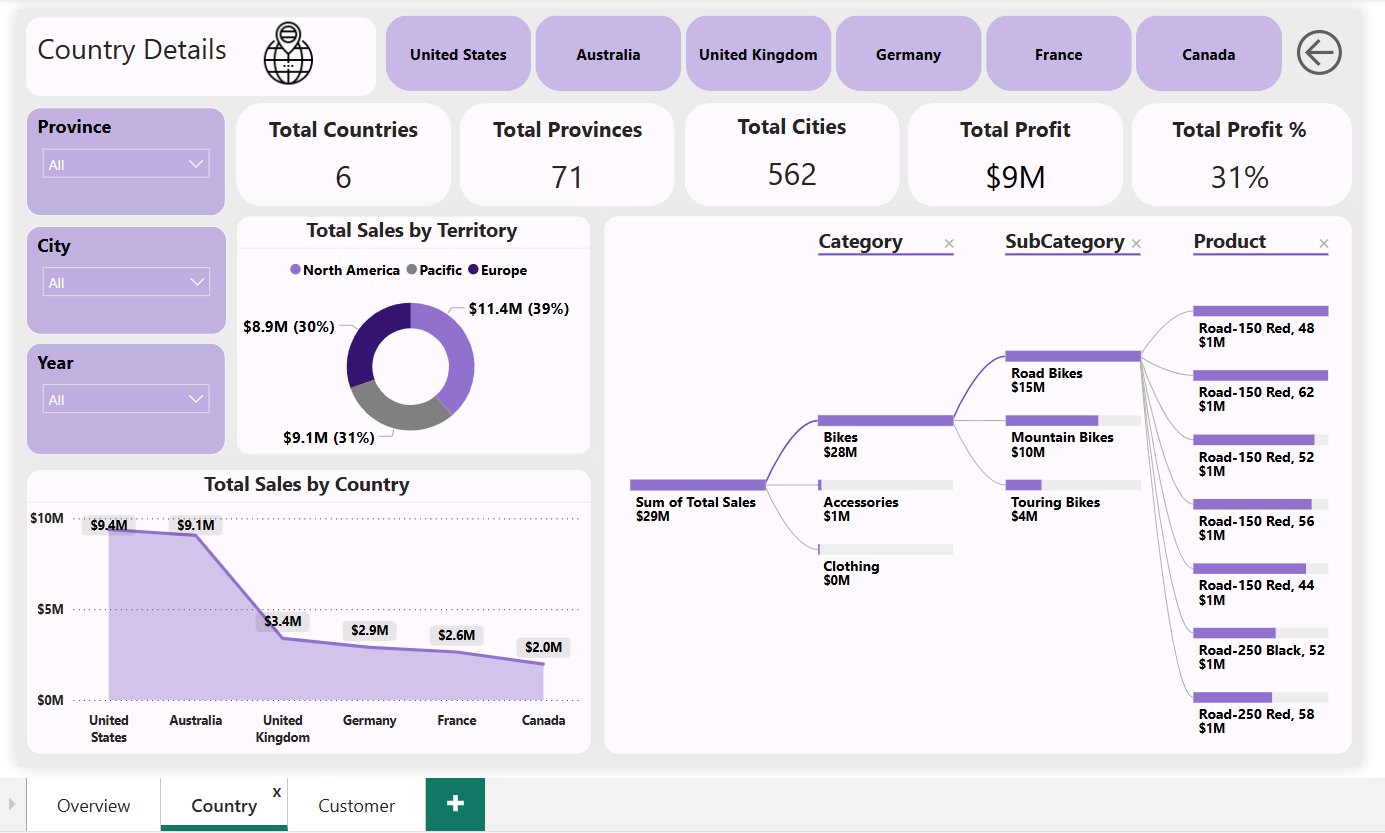

The page's visual inventory and layout, read from the dashboard file:
{"tool":"powerbi","page":{"name":"Country","canvas":[1280,720],"ordinal":1},"visuals":[{"type":"advancedSlicerVisual","fields":{"Values":["Geography.EnglishCountryRegionName"]},"box":[346.2,0,867.1,82.7],"z":0},{"type":"shape","box":[208.3,88.3,205,98.3],"z":1000},{"type":"decompositionTreeVisual","fields":{"ExplainBy":["New Product.Category.EnglishProductCategoryName","New Product.Category.Subcategory.EnglishProductSubcategoryName","New Product.EnglishProductName"],"Analyze":["Sum(Fact Sales.Total Sales)"]},"box":[558.3,195,713,513.3],"z":2000},{"type":"shape","box":[421.7,88.3,205,98.3],"z":3000},{"type":"shape","box":[635,88.3,205,98.3],"z":4000},{"type":"shape","box":[1061.7,88.3,210,98.3],"z":5000},{"type":"shape","box":[848.3,88.3,205,98.3],"z":6000},{"type":"card","title":"Total Countries","fields":{"Values":["Count(Territory.SalesTerritoryCountry)"]},"box":[212.9,100,195.7,90],"z":7000},{"type":"slicer","title":"Province","fields":{"Values":["Geography.StateProvinceName"]},"box":[8.3,93.3,190,103.3],"z":8000},{"type":"slicer","title":"City","fields":{"Values":["Geography.City"]},"box":[8,205.2,191,103],"z":9000},{"type":"card","title":"Total Provinces","fields":{"Values":["Count(Geography.StateProvinceName)"]},"box":[427.1,100,194.3,90],"z":10000},{"type":"card","title":"Total Cities","fields":{"Values":["Count(Geography.City)"]},"box":[640,97.1,195.7,90],"z":11000},{"type":"slicer","title":"Year","fields":{"Values":["Date.CalendarYear"]},"box":[8.3,316.7,190,106.7],"z":12000},{"type":"card","title":"Total Profit %","fields":{"Values":["Fact Sales.Profit %"]},"box":[1067.1,100,194.3,90],"z":13000},{"type":"card","title":"Total Profit","fields":{"Values":["Fact Sales.Total Profit"]},"box":[852.9,100,195.7,90],"z":14000},{"type":"lineChart","title":"Total Sales by Country","fields":{"Category":["Territory.SalesTerritoryCountry"],"Y":["Sum(Fact Sales.Total Sales)"]},"box":[8.3,436.7,538.3,271.7],"z":15000},{"type":"donutChart","title":"Total Sales by Territory","fields":{"Category":["Territory.SalesTerritoryGroup"],"Y":["Sum(Fact Sales.Total Sales)"]},"box":[208.3,195,338.3,228.3],"z":16000},{"type":"textbox","box":[8.3,6.7,333.3,75],"z":17000,"group":"g1"},{"type":"actionButton","box":[1213.3,12.3,67.4,55.1],"z":17000},{"type":"group","id":"g1","title":"Group 1","box":[8.3,5,333.3,76.7],"z":18000},{"type":"image","box":[216.4,5,83.1,70],"z":18001,"group":"g1"}]}

Visuals, with their boxes on the page's 1280x720 design canvas (x1, y1, x2, y2). These are canvas units, not pixel positions in the 1385x833 screenshot, which may show the page scaled, cropped or inside an application window:
advancedSlicerVisual - Geography.EnglishCountryRegionName: crop(346, 0, 1213, 83)
shape: crop(208, 88, 413, 187)
decompositionTreeVisual - New Product.Category.EnglishProductCategoryName x New Product.Category.Subcategory.EnglishProductSubcategoryName: crop(558, 195, 1271, 708)
shape: crop(422, 88, 627, 187)
shape: crop(635, 88, 840, 187)
shape: crop(1062, 88, 1272, 187)
shape: crop(848, 88, 1053, 187)
"Total Countries" card: crop(213, 100, 409, 190)
"Province" slicer: crop(8, 93, 198, 197)
"City" slicer: crop(8, 205, 199, 308)
"Total Provinces" card: crop(427, 100, 621, 190)
"Total Cities" card: crop(640, 97, 836, 187)
"Year" slicer: crop(8, 317, 198, 423)
"Total Profit %" card: crop(1067, 100, 1261, 190)
"Total Profit" card: crop(853, 100, 1049, 190)
"Total Sales by Country" lineChart: crop(8, 437, 547, 708)
"Total Sales by Territory" donutChart: crop(208, 195, 547, 423)
textbox: crop(8, 7, 342, 82)
actionButton: crop(1213, 12, 1281, 67)
"Group 1" group: crop(8, 5, 342, 82)
image: crop(216, 5, 300, 75)
